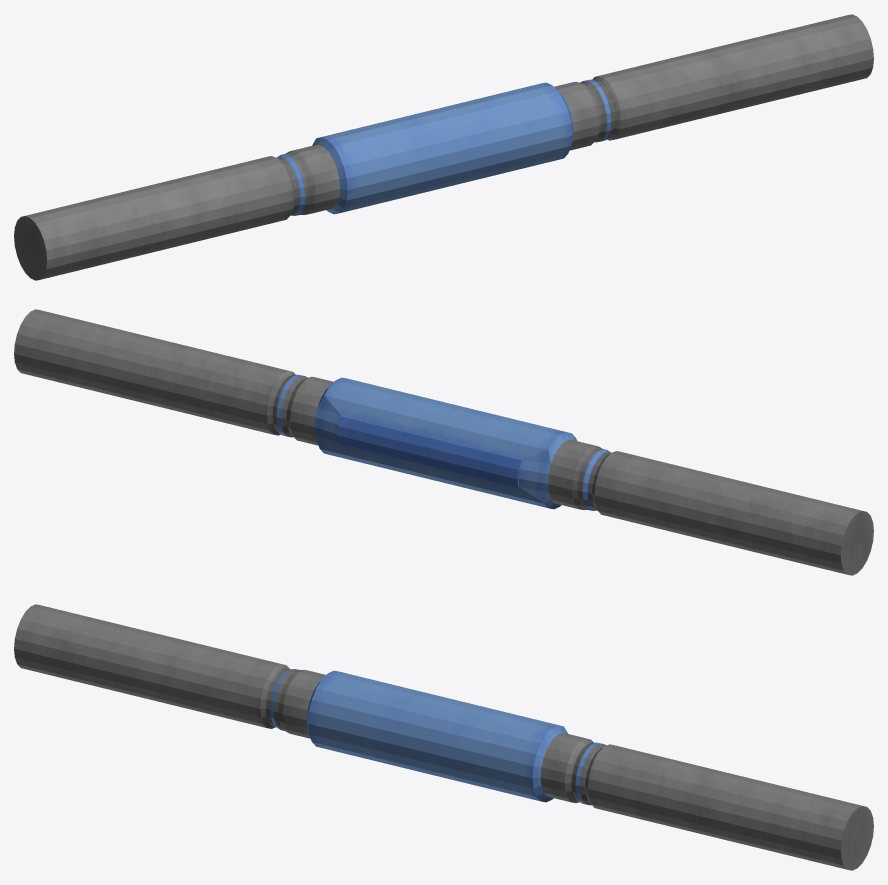
The model's file is ruraduza.obj.
3 renders of one model, top to bottom at view 1: azimuth 30°, elevation 25°; view 2: azimuth 150°, elevation 25°; view 3: azimuth 330°, elevation 25°, orthographic.
Visible parts, largest first — view 1: RuraDuza.NR1.001_Cylinder.030; view 2: RuraDuza.NR1.001_Cylinder.030; view 3: RuraDuza.NR1.001_Cylinder.030.
Boxes of the visible parts, x1,y1,x2,y2 form: RuraDuza.NR1.001_Cylinder.030: (14, 14, 873, 280); RuraDuza.NR1.001_Cylinder.030: (14, 309, 873, 575); RuraDuza.NR1.001_Cylinder.030: (14, 604, 873, 870).
Bounding box in the file's own units: 26.96 × 2.23 × 2.28.
1 material, 1 textured.
